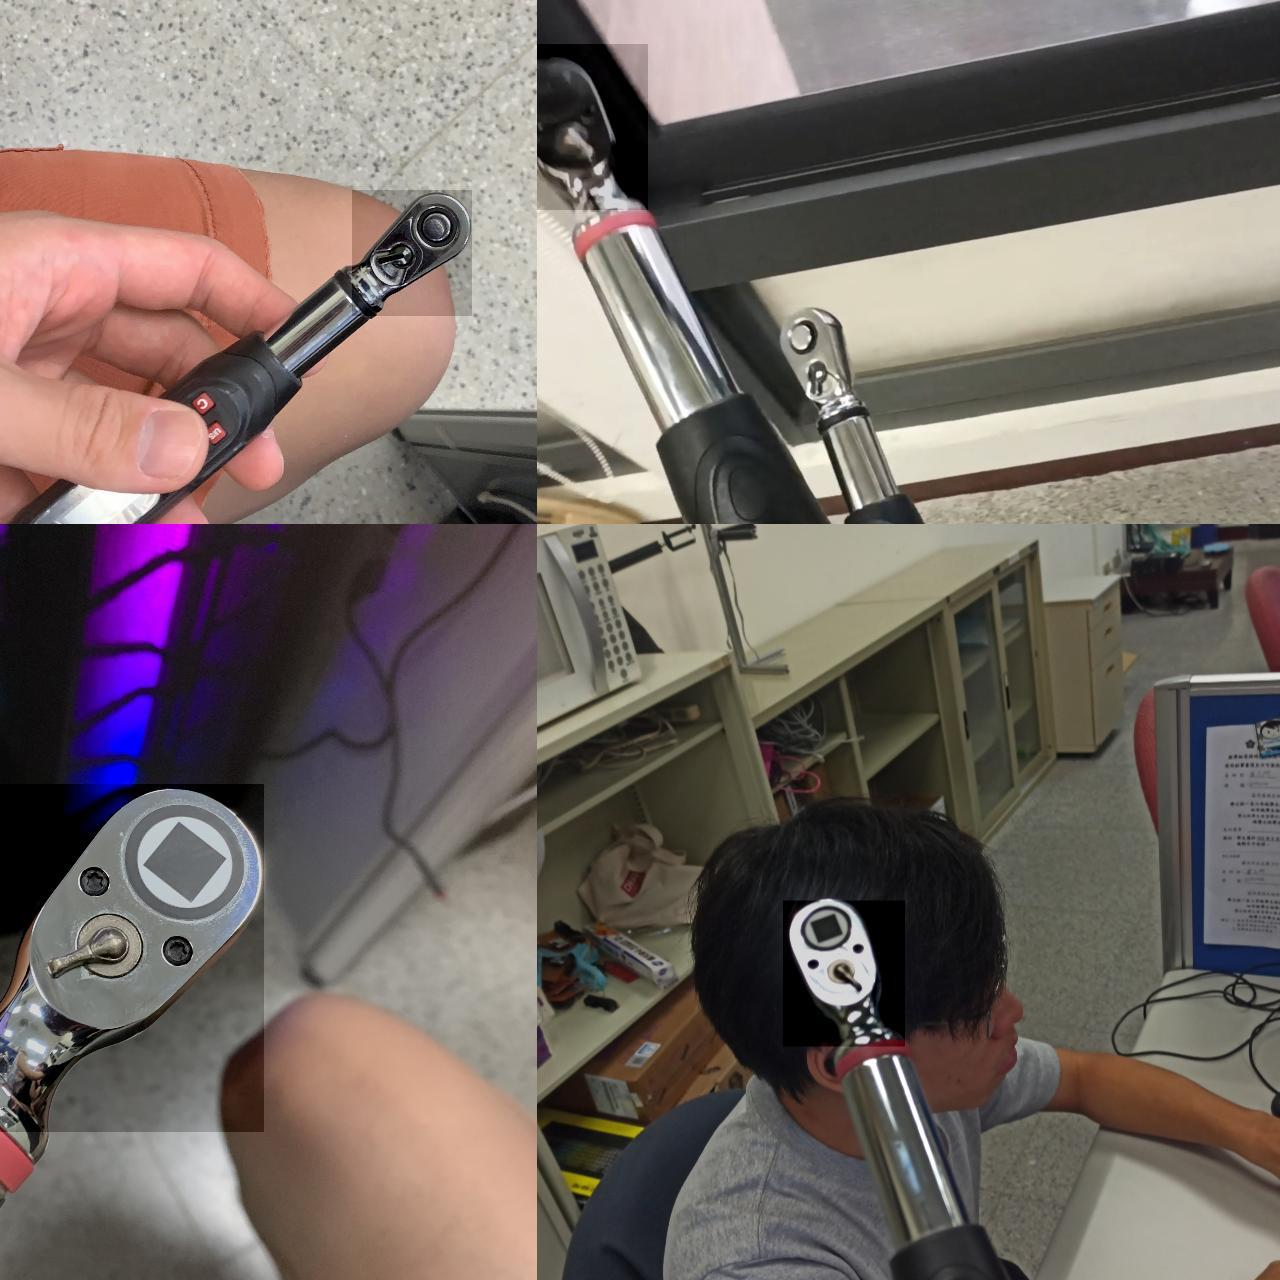Tool: (0, 784, 264, 1132), (537, 45, 648, 210), (783, 900, 905, 1046), (352, 190, 472, 316), (783, 306, 850, 418)
